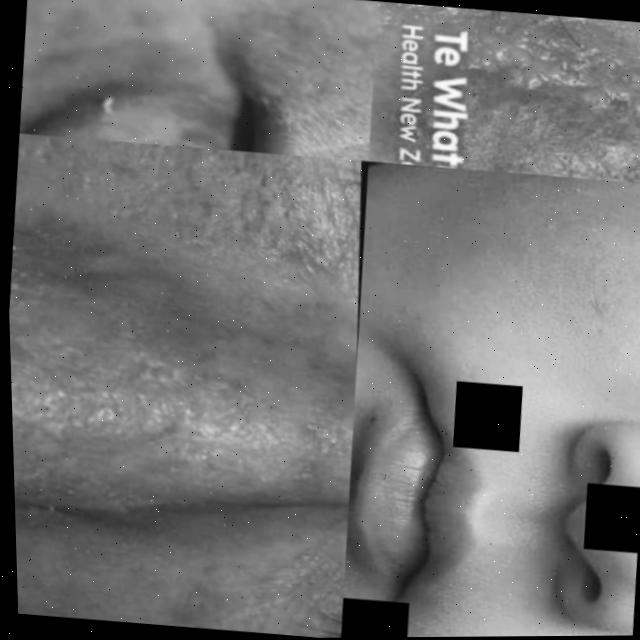lupus-detected: (8, 282, 341, 627), (90, 138, 364, 338), (16, 1, 330, 159), (364, 18, 640, 186), (16, 535, 251, 633)
